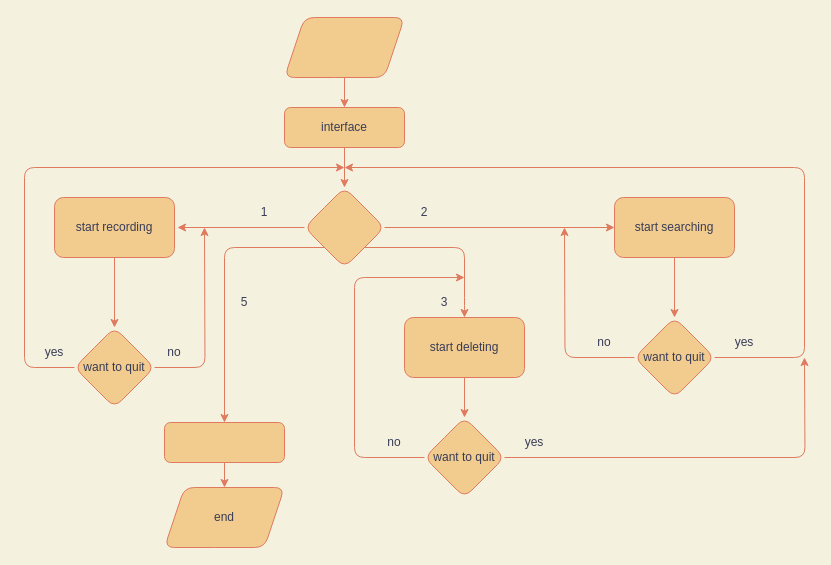
The diagram is 831 pixels wide and 565 high, and some of its shapes have lost their labels. Here are the shapes that lost their labels. From the top down, the centre of each, then its label:
pixel 344 47: start
pixel 344 227: judge which number
pixel 224 442: close window
